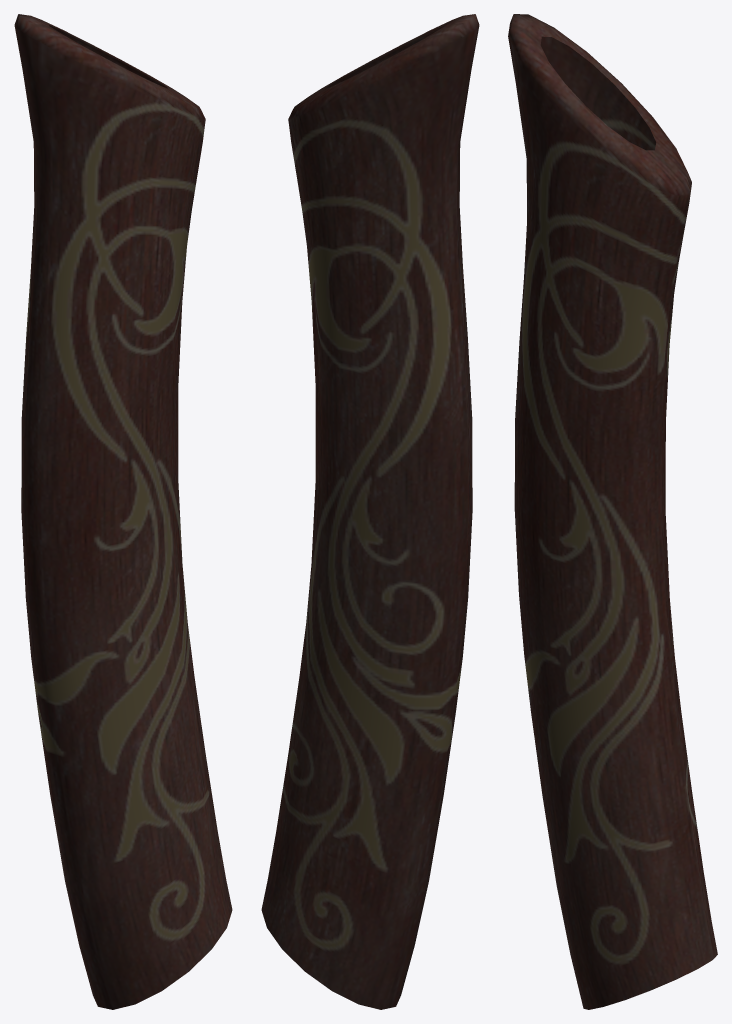
The model's file is wm_rivendell_sword_a01_handle.fbx.
3 views of the same model, side by side, from view 1: azimuth 30°, elevation 25°; view 2: azimuth 150°, elevation 25°; view 3: azimuth 330°, elevation 25° (orthographic). The views are drawn at different scales.
Parts seen in each view (by area): view 1: wm_rivendell_sword_a01_handle; view 2: wm_rivendell_sword_a01_handle; view 3: wm_rivendell_sword_a01_handle.
Boxes of the visible parts, x1,y1,x2,y2 form: wm_rivendell_sword_a01_handle: (14, 14, 232, 1009); wm_rivendell_sword_a01_handle: (261, 14, 479, 1009); wm_rivendell_sword_a01_handle: (508, 14, 717, 1009).
Size of the model in its own units: 0.0602 by 0.0265 by 0.2751.
Materials: 1 (1 with a texture image).
